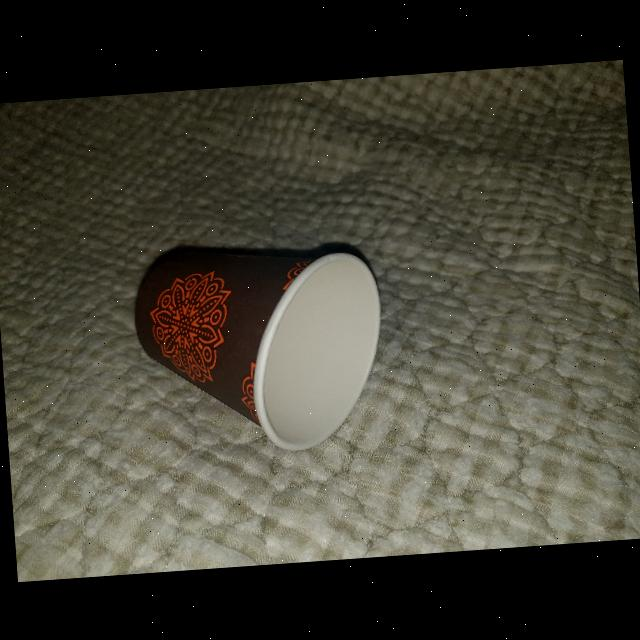trash: (126, 223, 400, 472)
